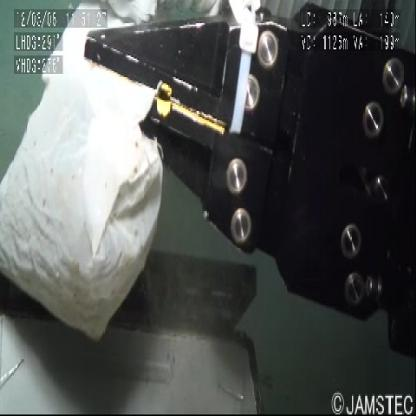Rov: (82, 1, 416, 335), (1, 253, 266, 413)
Rác: (1, 1, 174, 354)
